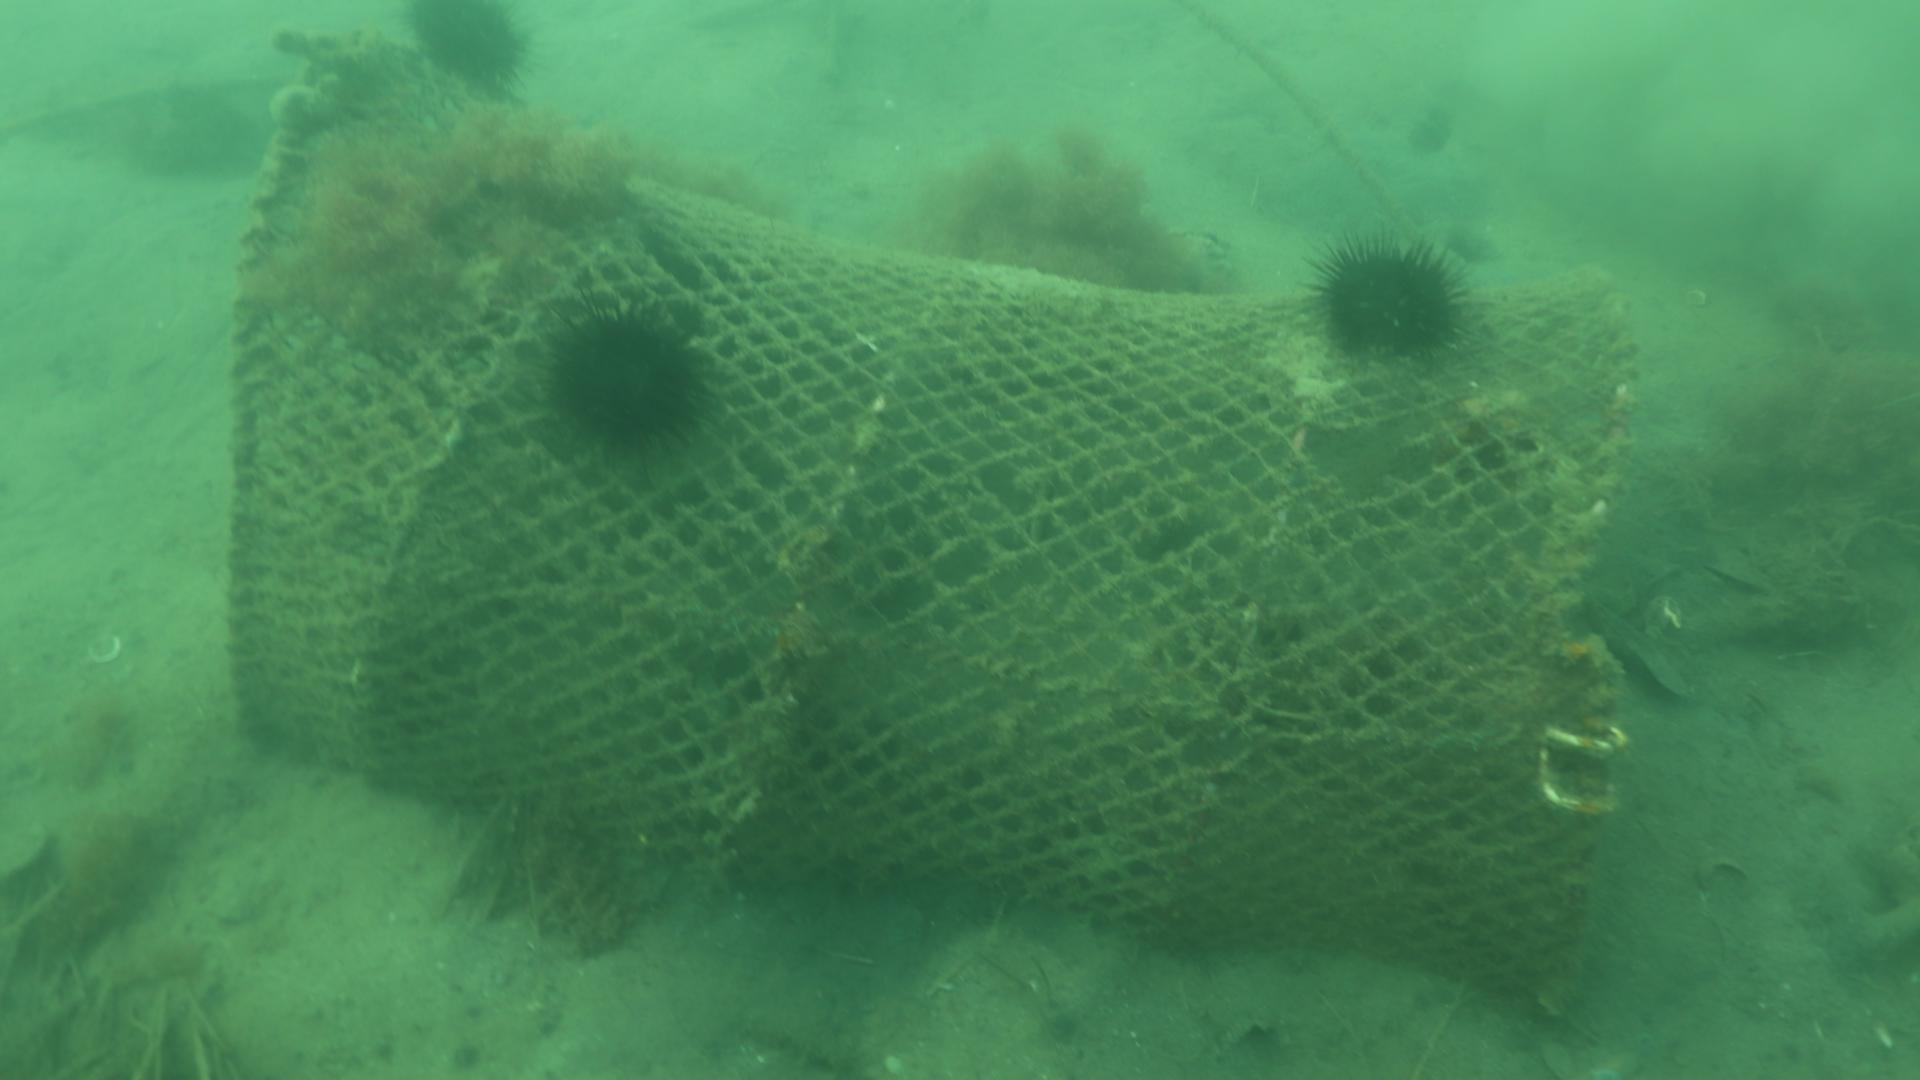spring fish trap: (222, 24, 1636, 1006)
